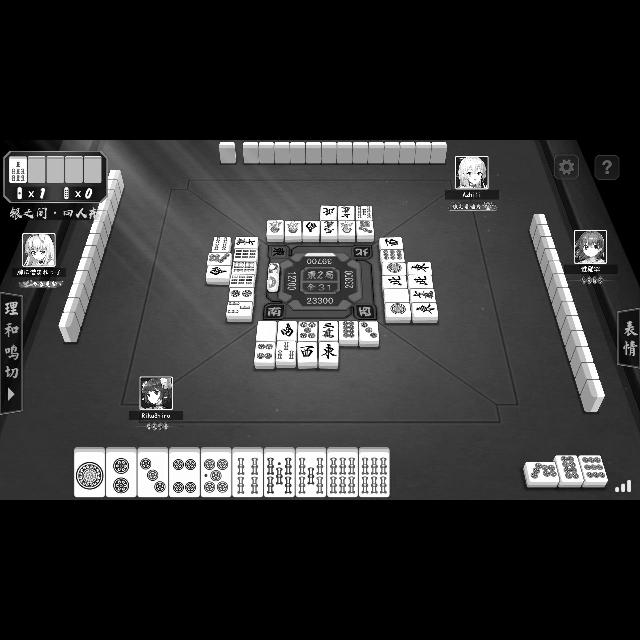1p: (74, 447, 106, 497), (384, 303, 412, 323), (382, 263, 406, 275)
1s: (266, 220, 284, 242), (338, 220, 356, 242), (284, 222, 302, 242)
2p: (106, 448, 138, 498), (228, 288, 254, 302)
3m: (318, 321, 338, 341)
3p: (138, 447, 168, 497), (359, 322, 379, 346)
3s: (276, 342, 296, 368), (226, 302, 252, 322)
4p: (170, 447, 200, 498), (254, 342, 276, 368)
4s: (232, 447, 262, 498), (212, 238, 232, 252)
5p: (200, 447, 232, 498), (298, 321, 318, 341)
5s: (264, 447, 294, 498), (296, 447, 326, 497), (356, 206, 372, 220)
6s: (358, 447, 389, 497), (328, 447, 358, 497), (232, 262, 256, 274)
7m: (410, 290, 436, 302), (234, 237, 258, 249), (338, 206, 354, 220)
7p: (523, 462, 559, 488), (356, 220, 374, 242), (208, 253, 232, 265)
7s: (9, 157, 27, 183)
8p: (557, 455, 581, 487), (339, 322, 358, 346)
9m: (321, 222, 337, 242)
9p: (580, 456, 608, 486), (380, 250, 404, 262)
9s: (229, 274, 255, 288), (234, 249, 258, 261)
haku: (256, 321, 276, 342), (383, 290, 409, 302)
nan: (206, 266, 230, 284), (278, 321, 298, 341), (302, 220, 320, 242)
pe: (382, 276, 408, 288), (408, 276, 434, 288), (320, 206, 336, 220)
sha: (297, 342, 317, 368), (379, 238, 403, 248)
tou: (319, 342, 339, 368), (412, 303, 438, 323), (406, 263, 432, 275)
